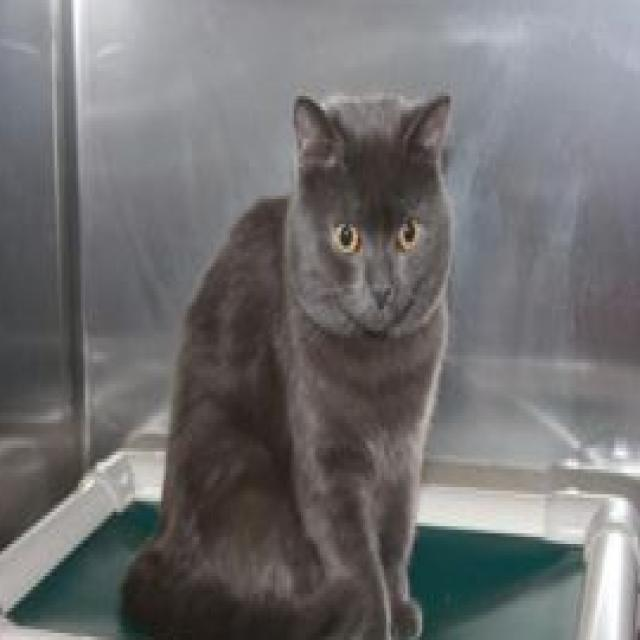British Shorthair: (114, 85, 460, 640)
